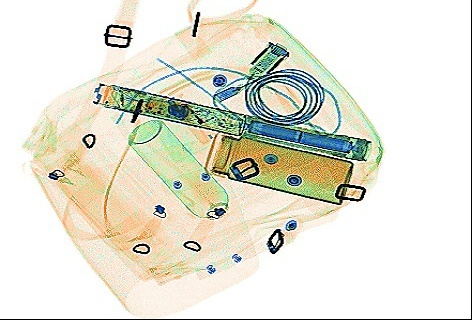lighter: (163, 94, 213, 143)
pressure: (127, 119, 228, 221)
